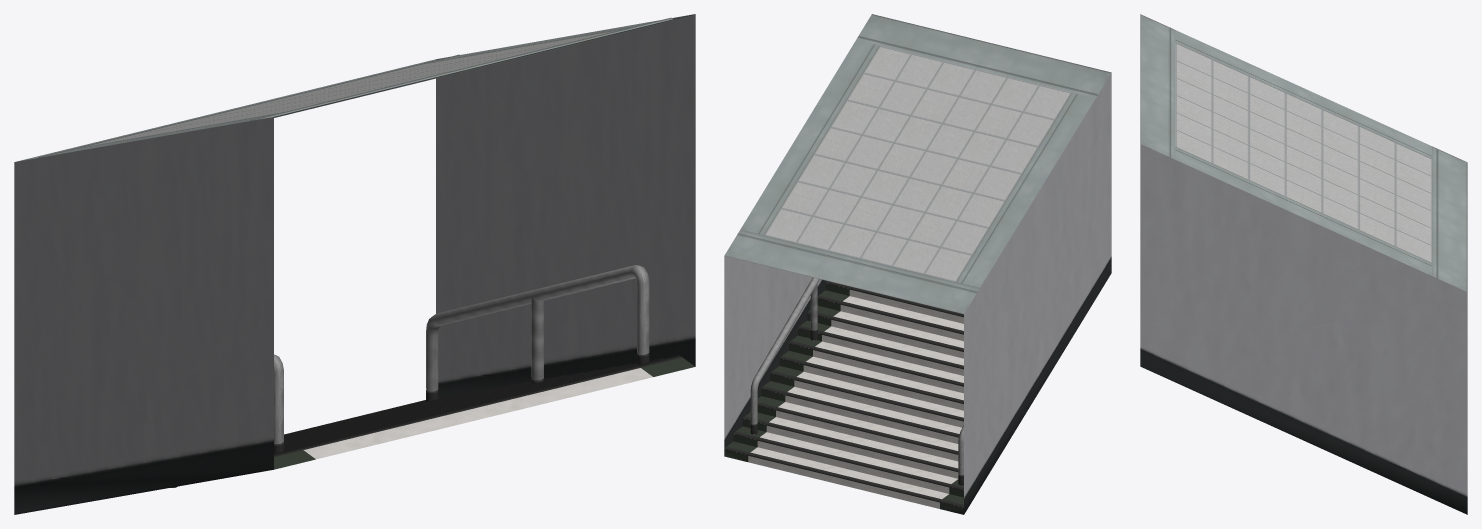
Rendered from Stairs.fbx.
3 views of the same model, side by side, from view 1: azimuth 30°, elevation 25°; view 2: azimuth 150°, elevation 25°; view 3: azimuth 270°, elevation 25° (orthographic). The views are drawn at different scales.
Parts seen in each view (by area): view 1: Stairs_StairWell_Half; view 2: Stairs_StairWell_Half; view 3: Stairs_StairWell_Half.
Boxes of the visible parts, x1,y1,x2,y2 form: Stairs_StairWell_Half: (14,14,695,514); Stairs_StairWell_Half: (724,14,1111,514); Stairs_StairWell_Half: (1140,14,1467,514).
Bounding box in the file's own units: 3.75 × 5 × 4.
5 materials, 5 textured.
